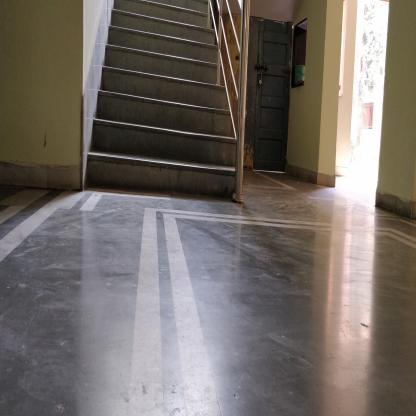stairs: (114, 6, 207, 204)
